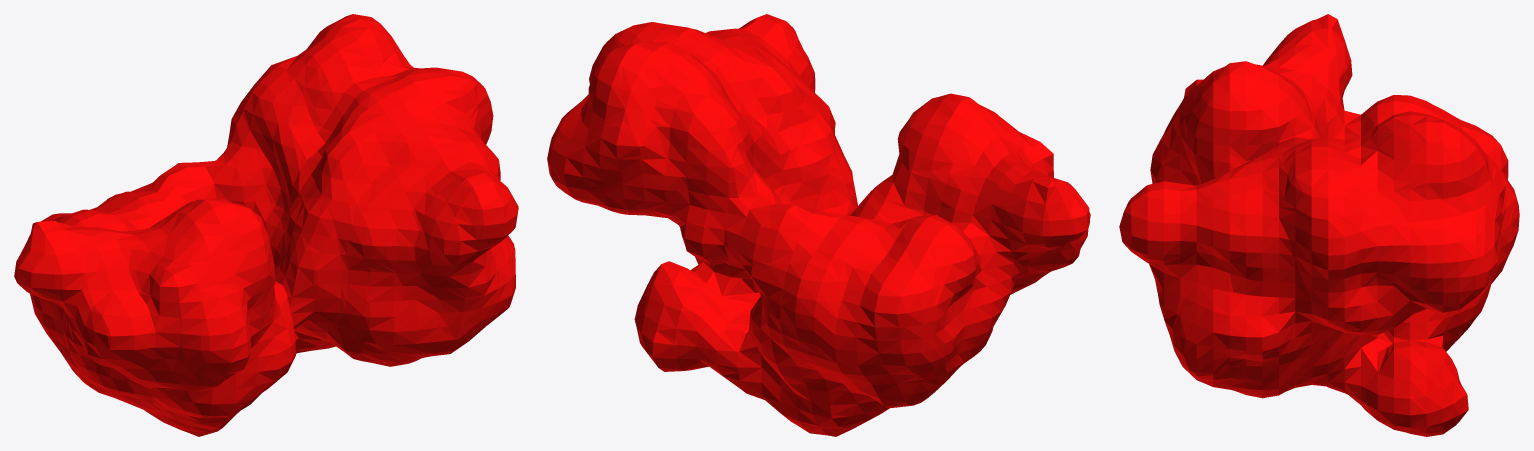
File: rbsA_coarse.dae
The picture shows the model from 3 angles, left to right: view 1: azimuth 30°, elevation 25°; view 2: azimuth 150°, elevation 25°; view 3: azimuth 270°, elevation 25°; orthographic projection. The views are drawn at different scales.
Visible parts, largest first — view 1: rbsA; view 2: rbsA; view 3: rbsA.
Part boxes in pixels (x1=…): rbsA: x1=14, y1=14, x2=518, y2=436; rbsA: x1=547, y1=14, x2=1090, y2=436; rbsA: x1=1119, y1=14, x2=1519, y2=436.
Bounding box in the file's own units: 91.84 × 64.95 × 61.98.
